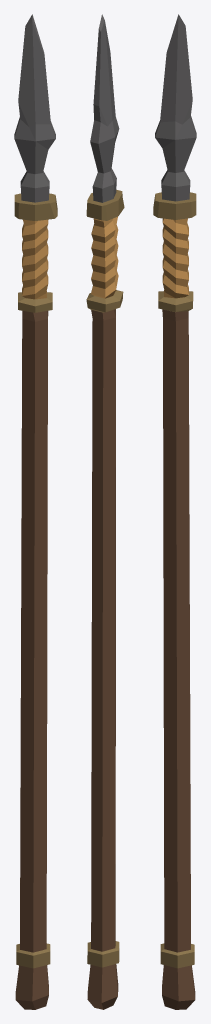
Rendered from kingdom_SM_Wep_Spear_12.gltf.
3 views of the same model, side by side, from view 1: azimuth 90°, elevation 25°; view 2: azimuth 150°, elevation 25°; view 3: azimuth 270°, elevation 25° (orthographic).
Visible parts, largest first — view 1: SM_Wep_Spear_12; view 2: SM_Wep_Spear_12; view 3: SM_Wep_Spear_12.
Part boxes in pixels (left/top/right/bottom): SM_Wep_Spear_12: left=14, top=14, right=57, bottom=1009; SM_Wep_Spear_12: left=86, top=14, right=124, bottom=1009; SM_Wep_Spear_12: left=153, top=14, right=196, bottom=1009.
Bounding box in the file's own units: 0.0602 × 1.81 × 0.0716.
Materials: 1 (1 with a texture image).
